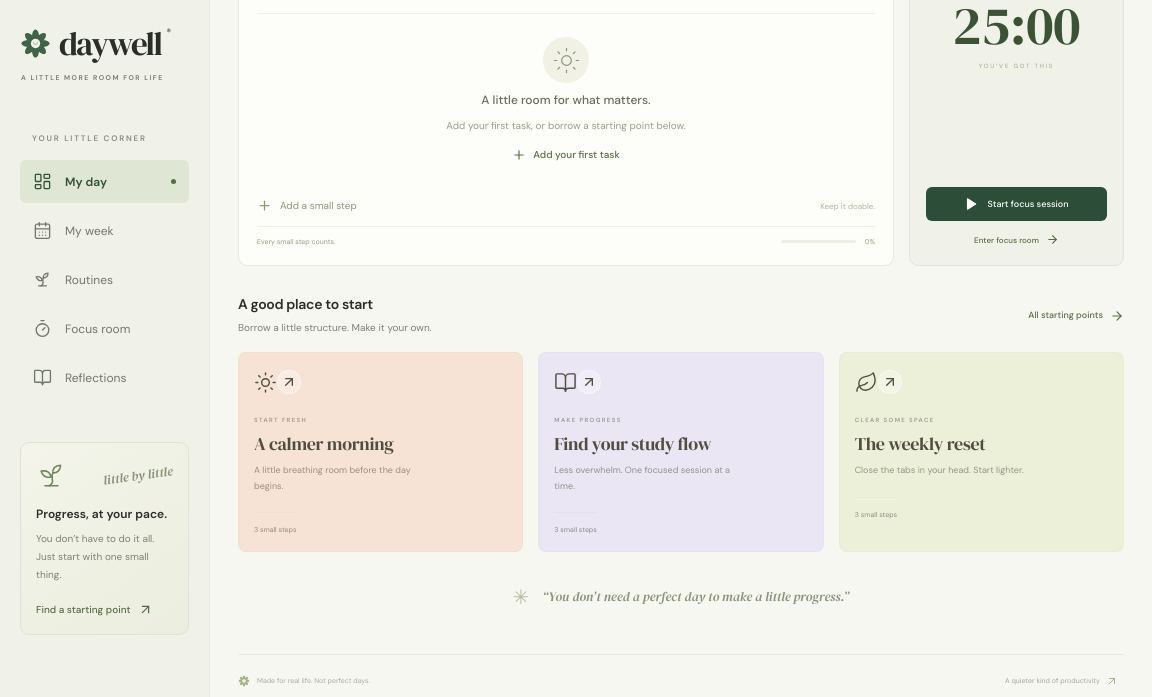
Scenario: everyday workflows › adds usable template tasks and filters completed items
The width and height of the screenshot is (1152, 697).
(page scrolled)
Click the button "A calmer morning": point(381, 452) [238,352,523,552]
(page scrolled)
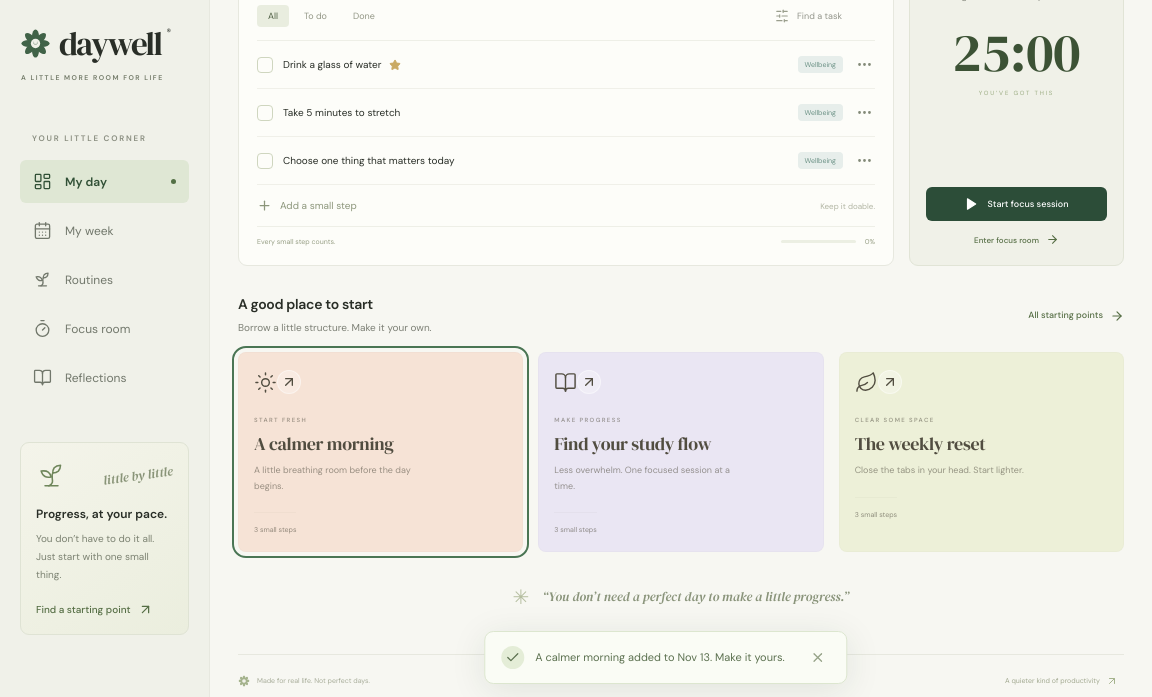
Click the button named "Complete: Drink a glass of water": point(265, 65) [257,57,273,73]
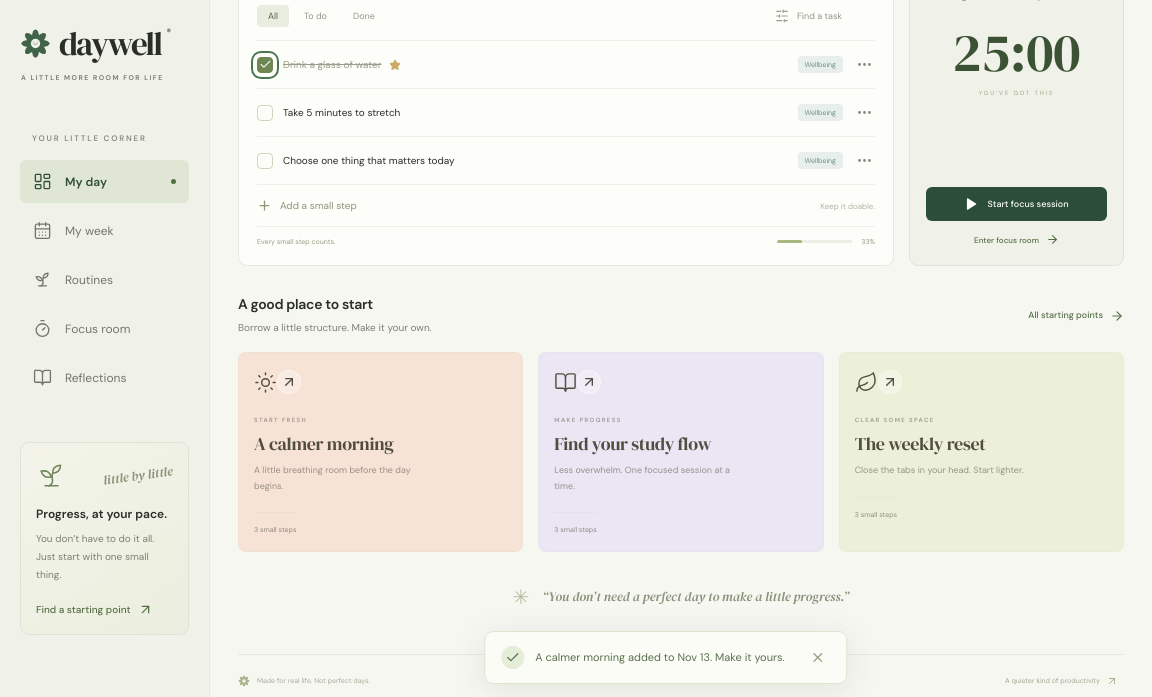
Click the button "Done": point(364, 16) [342,5,386,27]
(page scrolled)
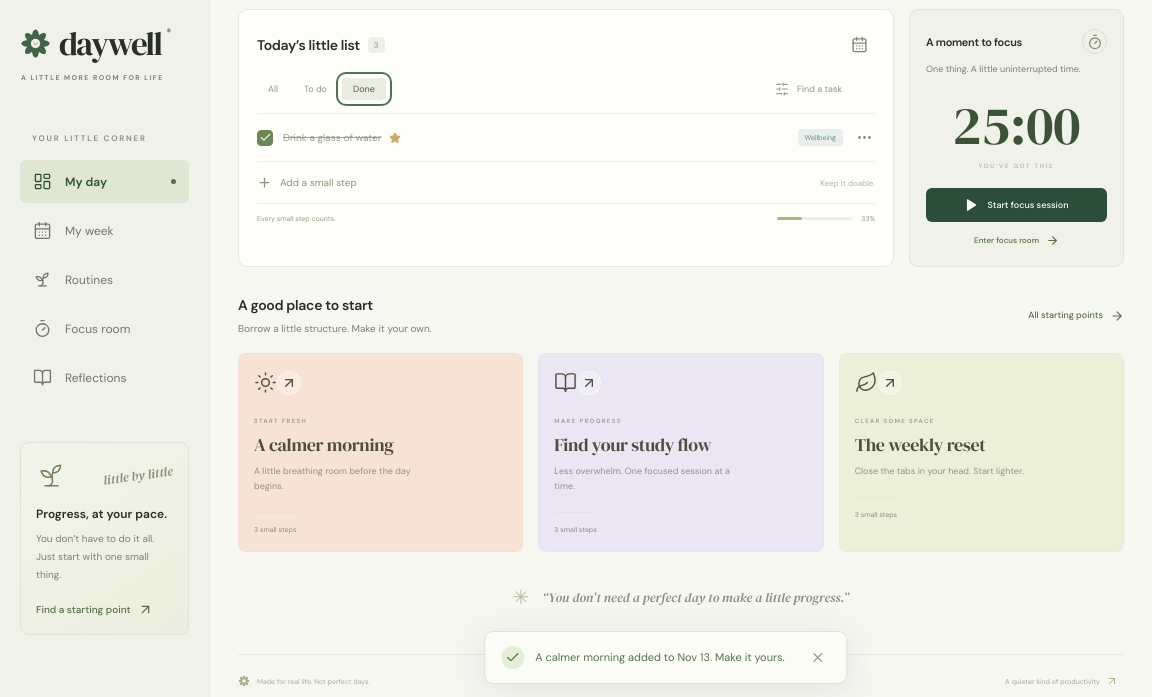
Result: the button "Drink a glass of water" is shown at [283,120,788,156]
Result: the button "Take 5 minutes to stretch" is gone
